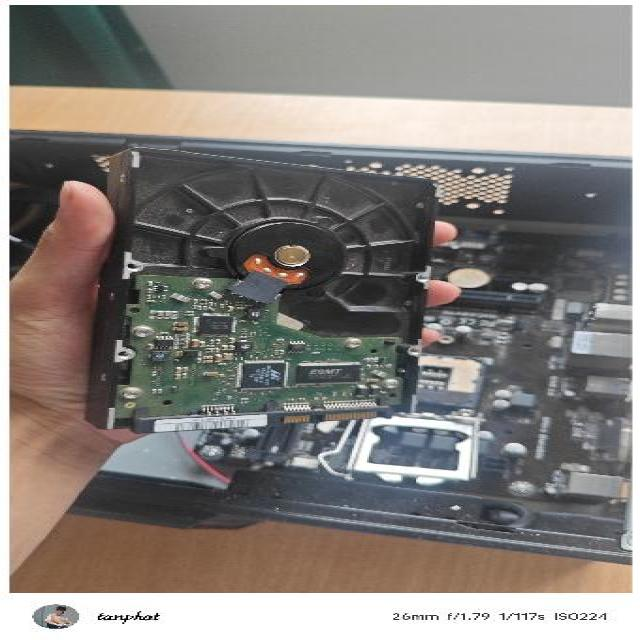DISK: (83, 142, 437, 434)
